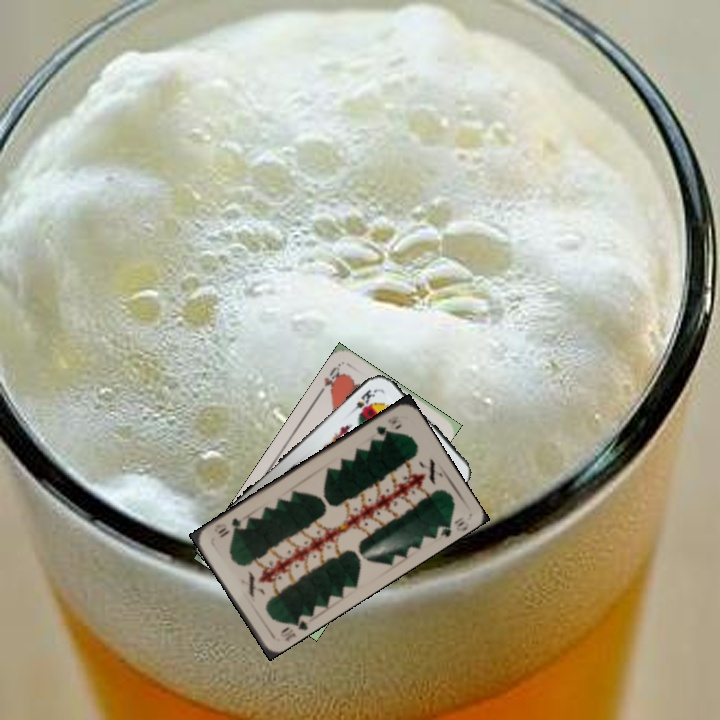G10: (276, 610, 310, 644), (372, 416, 399, 438)
HO: (315, 360, 346, 397)
SK: (345, 385, 380, 417)
